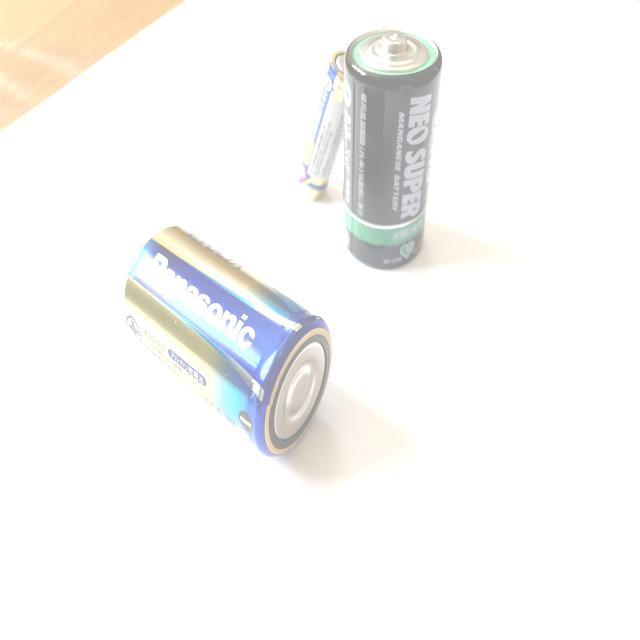AA: (295, 46, 348, 206)
